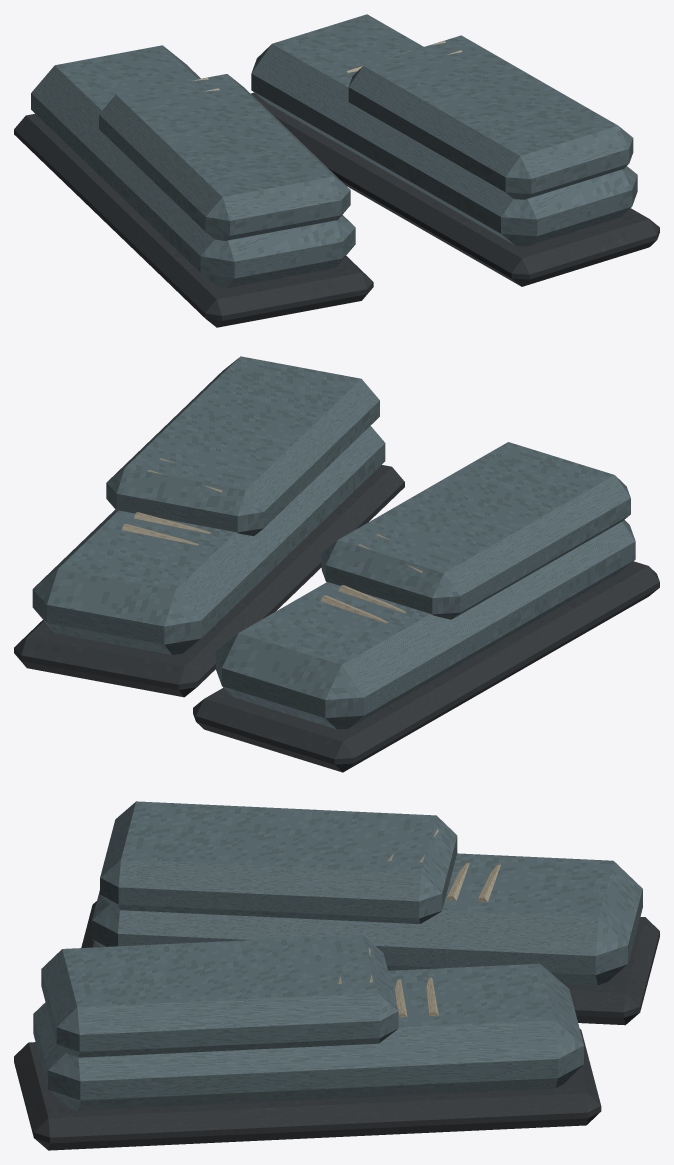
The model's file is sneakers.glb.
The picture shows the model from 3 angles, top to bottom: view 1: azimuth 30°, elevation 25°; view 2: azimuth 150°, elevation 25°; view 3: azimuth 270°, elevation 25°; orthographic projection. The views are drawn at different scales.
Parts seen in each view (by area): view 1: block_collar (×2), block_upper and toe box (×2), block_sole (×2); view 2: block_upper and toe box (×2), block_collar (×2), block_sole (×2); view 3: block_collar (×2), block_upper and toe box (×2), block_sole (×2).
Part boxes in pixels (x1,y1,x2,y2): block_collar (×2): (99,35,633,240); block_upper and toe box (×2): (31,14,637,287); block_sole (×2): (14,92,659,327); block_upper and toe box (×2): (32,426,635,729); block_collar (×2): (106,356,630,619); block_sole (×2): (14,465,659,772); block_collar (×2): (41,801,457,1057); block_upper and toe box (×2): (33,853,642,1110); block_sole (×2): (14,901,659,1150).
Bounding box in the file's own units: 0.2691 × 0.0705 × 0.3078.
1 material, 1 textured.
